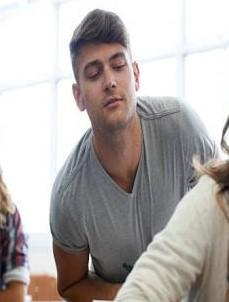cheating: (45, 3, 221, 297)
